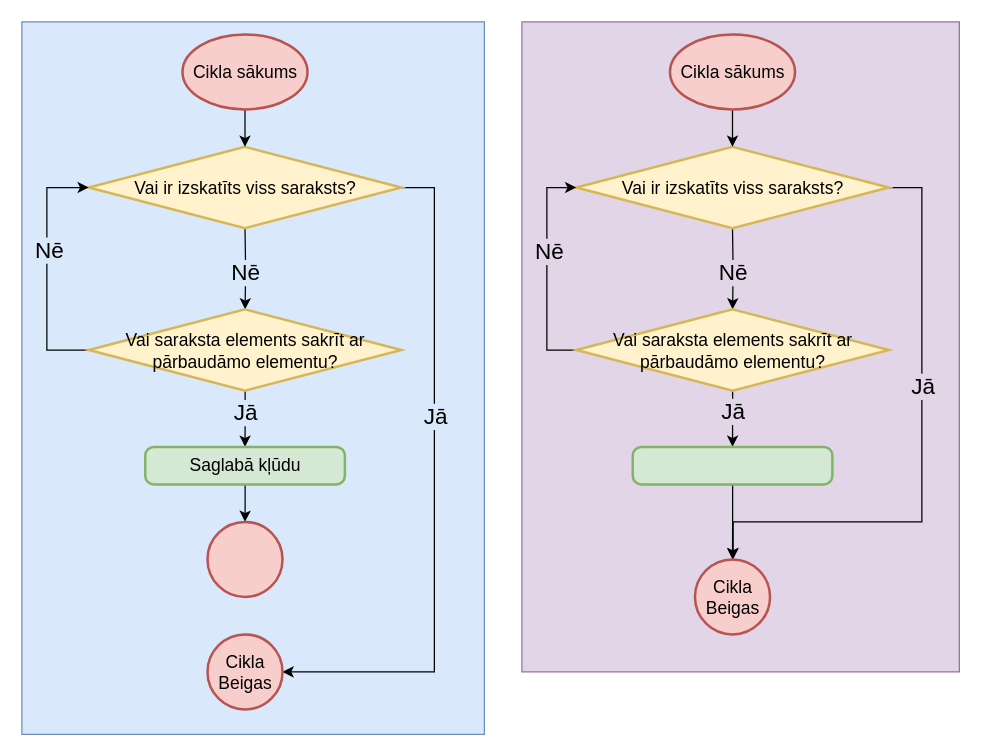
This 981x756 diagram has some shape labels left out. The centre of each missing label's shape, as x and y in pixels:
"Funkcijas Beigas" belongs at (244,559).
"Saglabā datus" belongs at (732,465).
